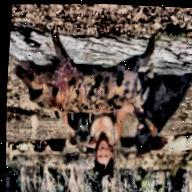boar: (6, 20, 165, 124)
